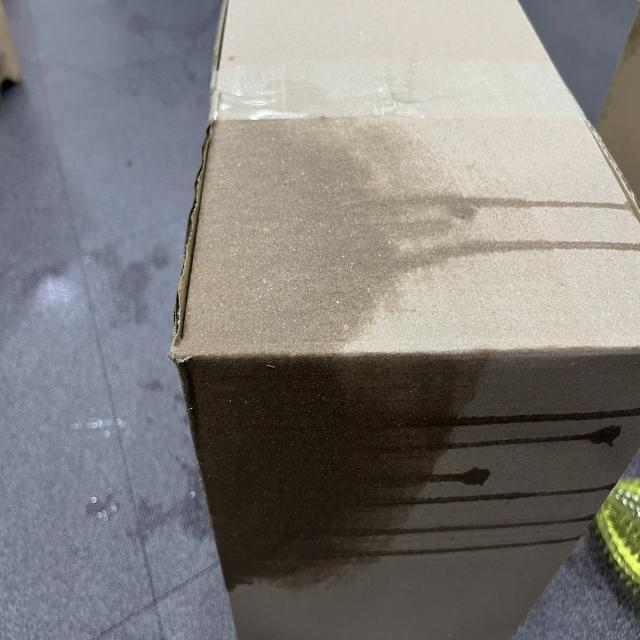wet: (196, 123, 460, 595)
